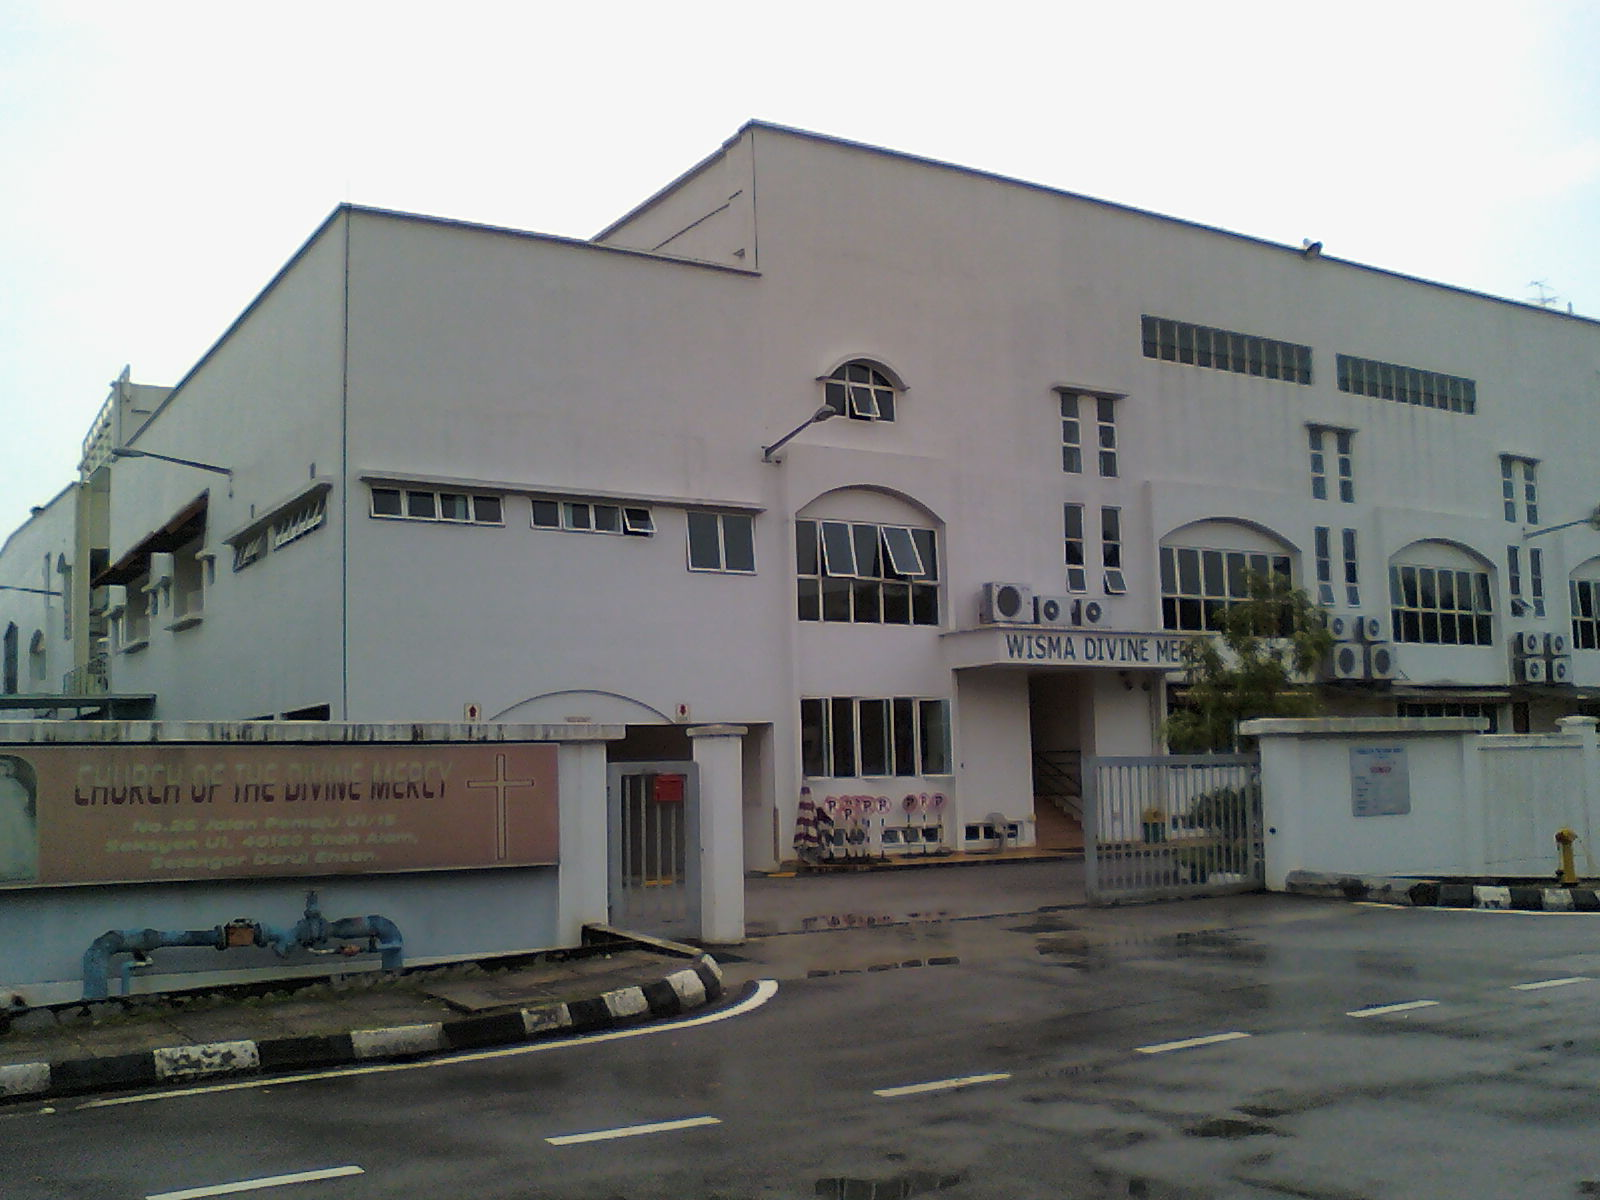Church: (14, 103, 1597, 944)
